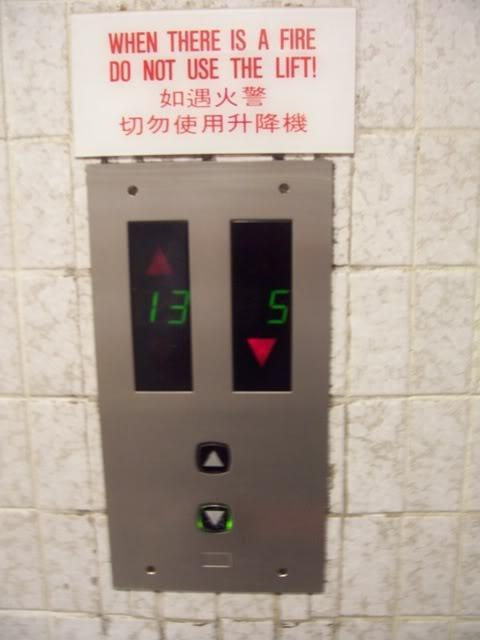down: (195, 501, 236, 535)
led: (228, 214, 295, 397), (128, 221, 194, 393)
up: (193, 440, 234, 476)
